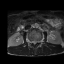CCS_stenosis: (34, 39, 35, 46)
LFS_stenosis: (37, 39, 39, 44)
LLS_stenosis: (35, 39, 37, 44)
RFS_stenosis: (30, 39, 32, 44)
RLS_normal: (32, 39, 34, 45)
